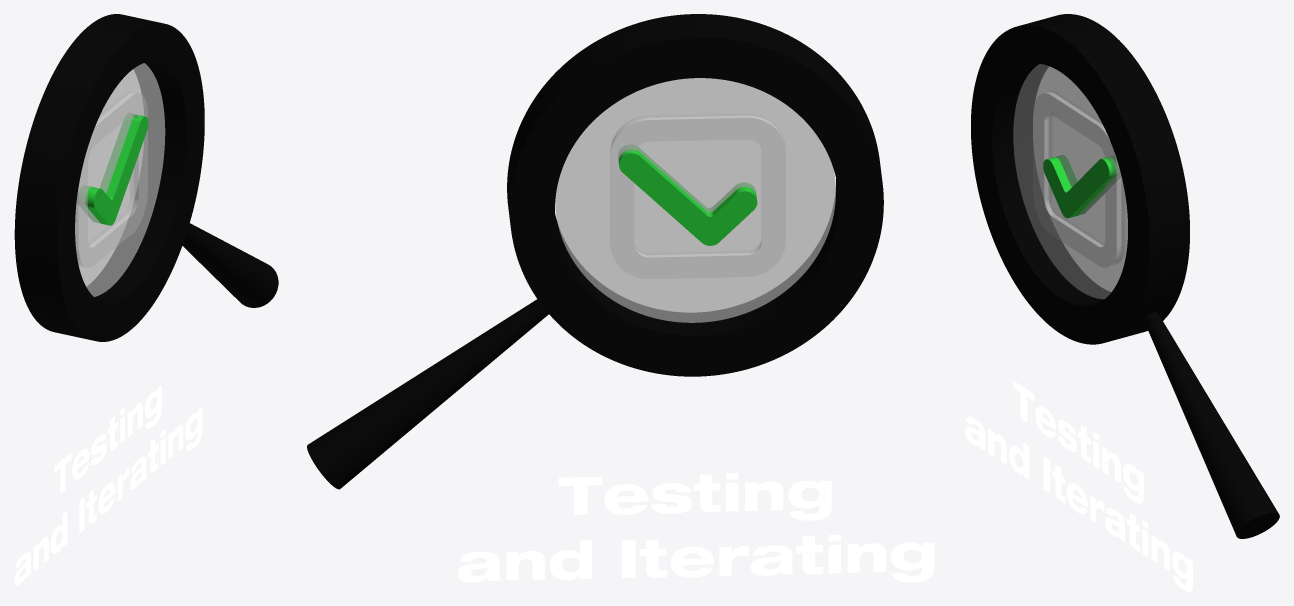
3 views of the same model, side by side, from view 1: azimuth 30°, elevation 25°; view 2: azimuth 150°, elevation 25°; view 3: azimuth 270°, elevation 25° (orthographic). The views are drawn at different scales.
Parts seen in each view (by area): view 1: xx021, xx024, Text.049, Curve005, xx022, Curve005_1; view 2: xx021, xx024, Text.040, Curve005, xx022, Curve005_1; view 3: xx021, xx024, xx022, Text.049, Curve005, Curve005_1.
Boxes of the visible parts, left/top/right/bottom form: xx021: left=14, top=14, right=204, bottom=341; xx024: left=75, top=63, right=165, bottom=296; Text.049: left=14, top=385, right=202, bottom=585; Curve005: left=75, top=92, right=147, bottom=267; xx022: left=182, top=223, right=278, bottom=307; Curve005_1: left=85, top=114, right=148, bottom=225; xx021: left=507, top=14, right=883, bottom=376; xx024: left=555, top=78, right=835, bottom=322; Text.040: left=457, top=473, right=934, bottom=582; Curve005: left=610, top=115, right=785, bottom=278; xx022: left=307, top=299, right=548, bottom=489; Curve005_1: left=618, top=147, right=757, bottom=245; xx021: left=971, top=14, right=1189, bottom=344; xx024: left=1013, top=64, right=1127, bottom=299; xx022: left=1143, top=312, right=1279, bottom=538; Text.049: left=965, top=380, right=1192, bottom=591; Curve005: left=1033, top=92, right=1121, bottom=267; Curve005_1: left=1043, top=155, right=1117, bottom=218.
Size of the model in its own units: 3.64 by 4.21 by 2.44.
